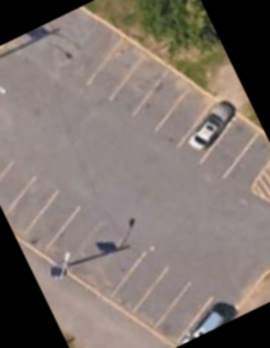parkingspot: (0, 142, 243, 348), (81, 30, 270, 202)
